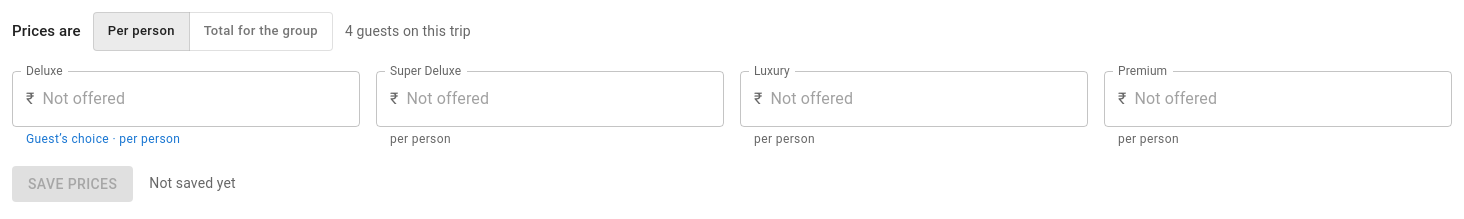
Test: the price form › a per-person price shows what the group pays
The image size is (1464, 219).
Type "41000" into the field labelled "Deluxe". click: (201, 99)
box: [42, 71, 360, 127]
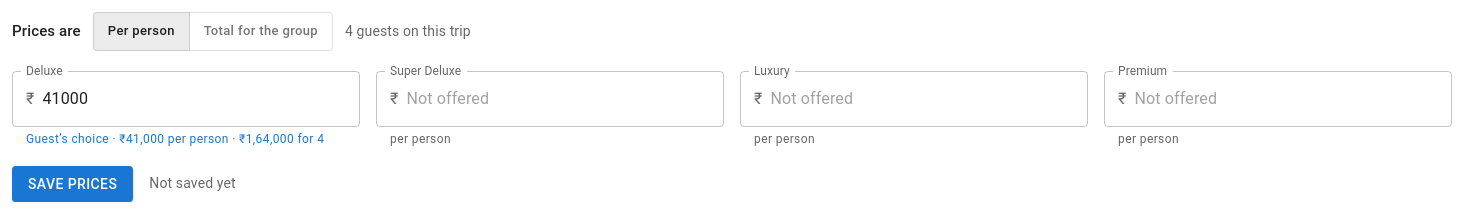
expect the text "4 guests on this trip" is shown: met, box [345, 21, 471, 42]
expect the text "Guest’s choice · ₹41,000 per person · ₹1,64,000 for 4" is shown: met, box [26, 130, 346, 150]
